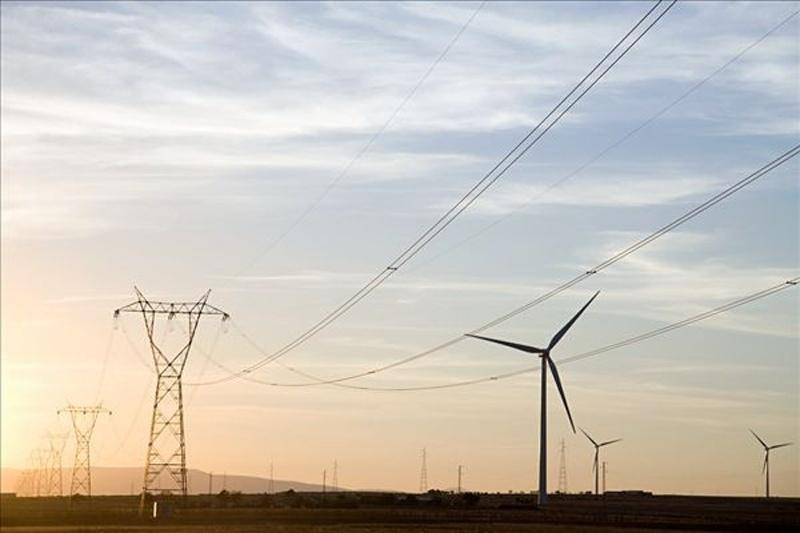power_tower: (94, 279, 227, 489), (61, 393, 106, 499)
